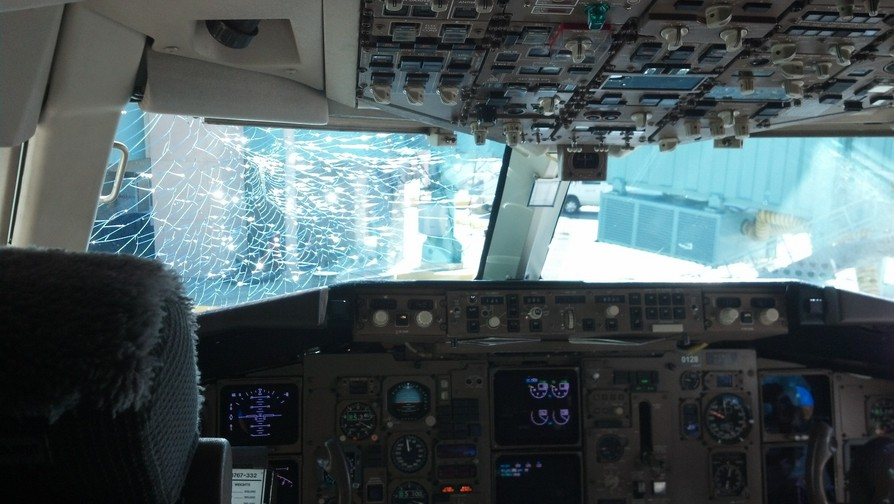crack: (132, 121, 452, 287)
